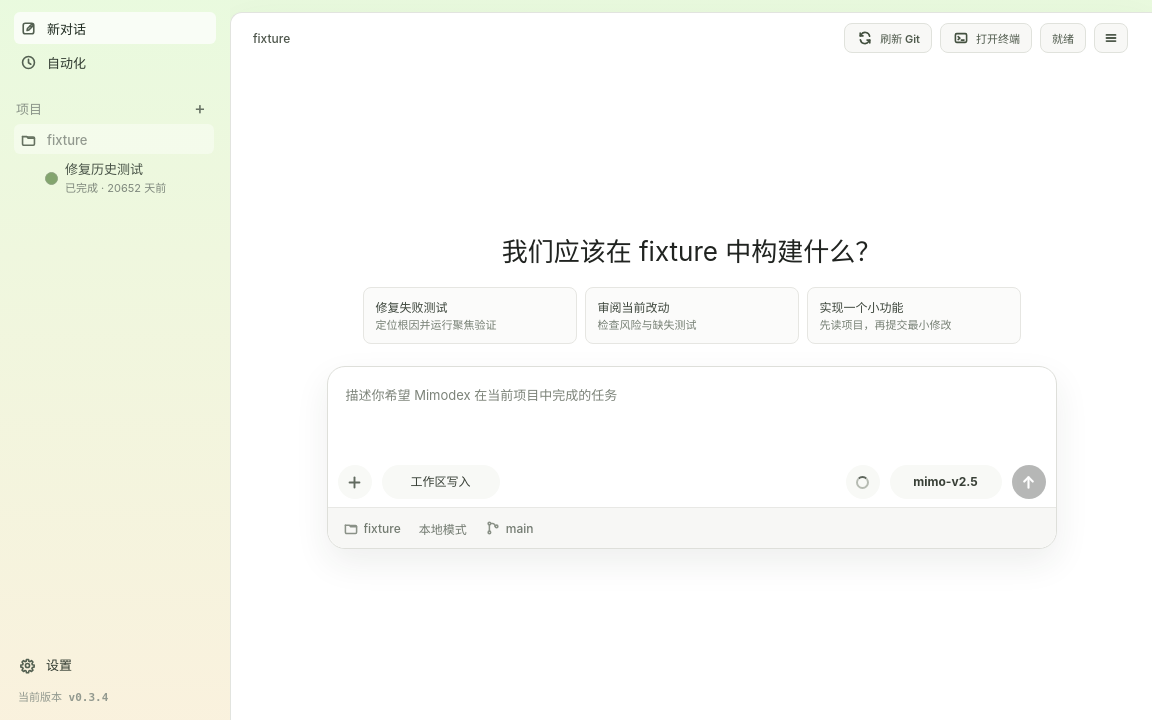
Scenario: Mimodex 桌面壳 › 从真实最近线程列表恢复 Runtime 线程与本地投影
The image size is (1152, 720).
Click the button titled "修复历史测试" at (128, 177), box [41, 156, 214, 198]
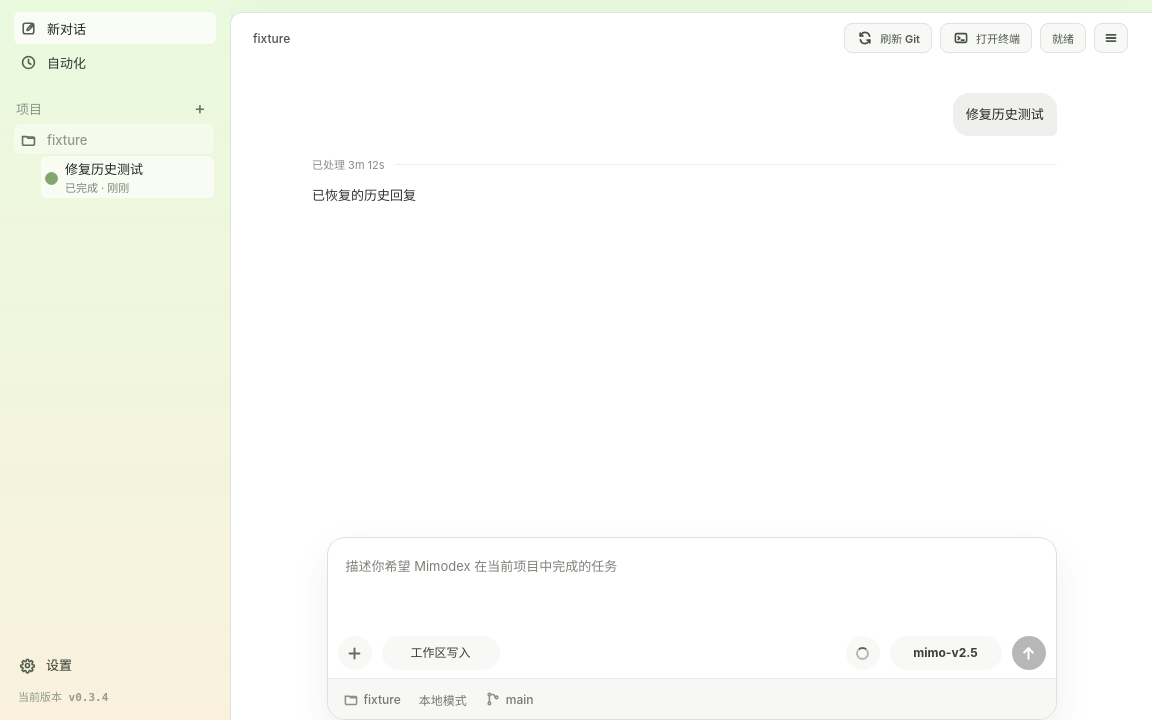
Now the text "已处理 3m 12s" is shown, box [312, 156, 384, 172]
Now the element with class "user-message" reads "修复历史测试", box [965, 106, 1043, 122]
Now the element with class "assistant-message" reads "已恢复的历史回复", box [312, 187, 416, 203]
